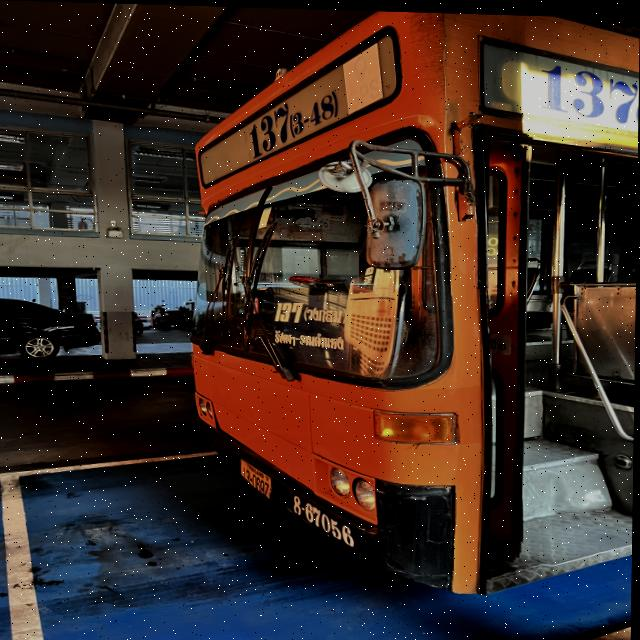BMTA-bus: (191, 9, 640, 595)
Bus Line Number: (245, 65, 345, 162), (535, 56, 639, 130)
Bus Side Number: (291, 489, 361, 548)
Destination Sign: (272, 293, 353, 370)
